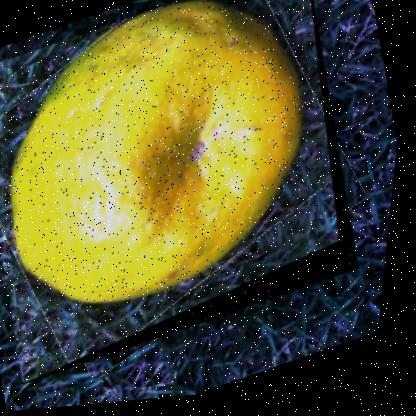orange: (0, 0, 390, 391)
